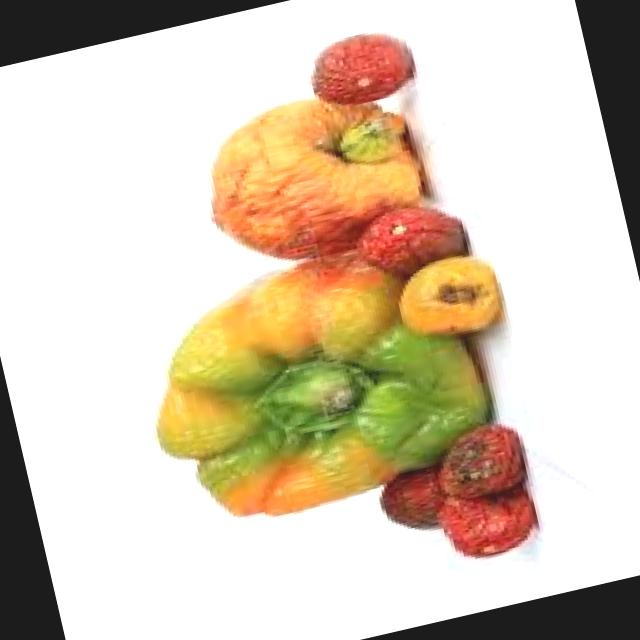organic: (72, 0, 549, 606)
